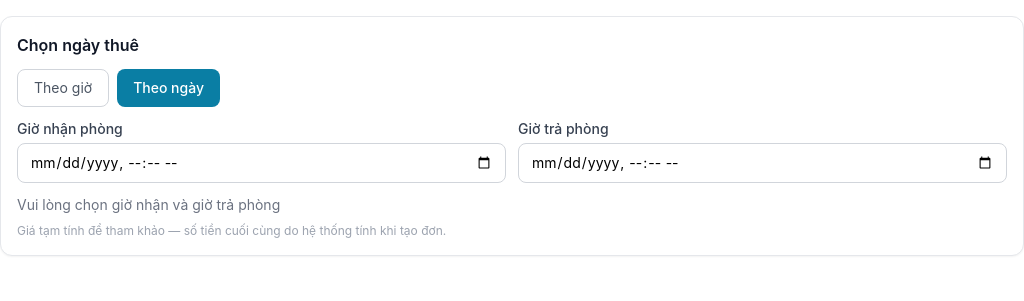
Test: RoomDateFrame - chon ngay va tam tinh › DoiSangTheoGio_TinhLaiTheoDonGiaGio
The width and height of the screenshot is (1024, 301).
Click the button "Theo giờ".
click(63, 88)  # box [17, 69, 109, 107]
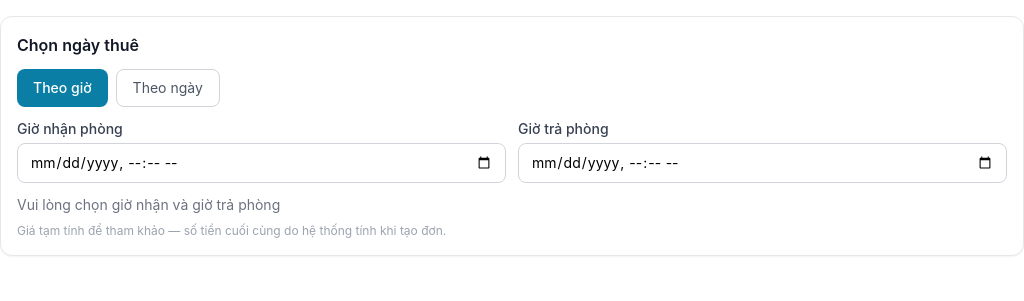
Type "2026-10-05T14:00" into the field labelled "Giờ nhận phòng".
click(262, 163); type("2026-10-05T14:00")  # box [17, 143, 506, 183]
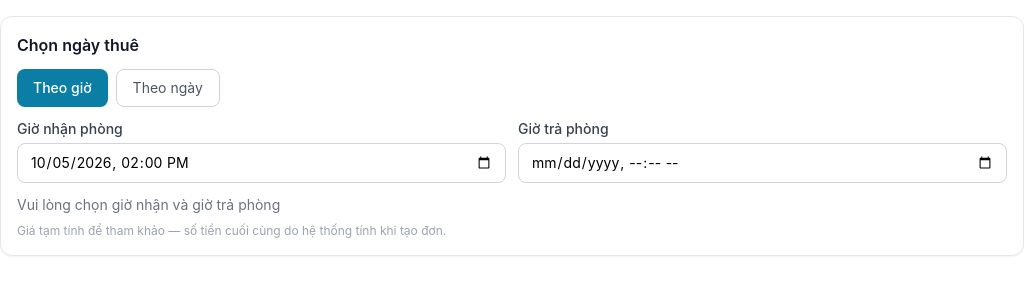
Type "2026-10-05T17:00" into the field labelled "Giờ trả phòng".
click(762, 163); type("2026-10-05T17:00")  # box [518, 143, 1007, 183]
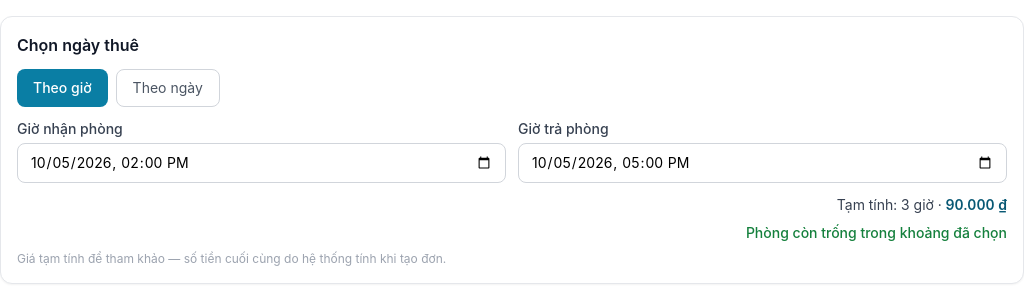
Result: the text "Tạm tính: 3 giờ · 90.000 ₫" is shown at [837, 196, 1007, 213]
Result: the text "90.000 ₫" is shown at [946, 196, 1007, 213]
